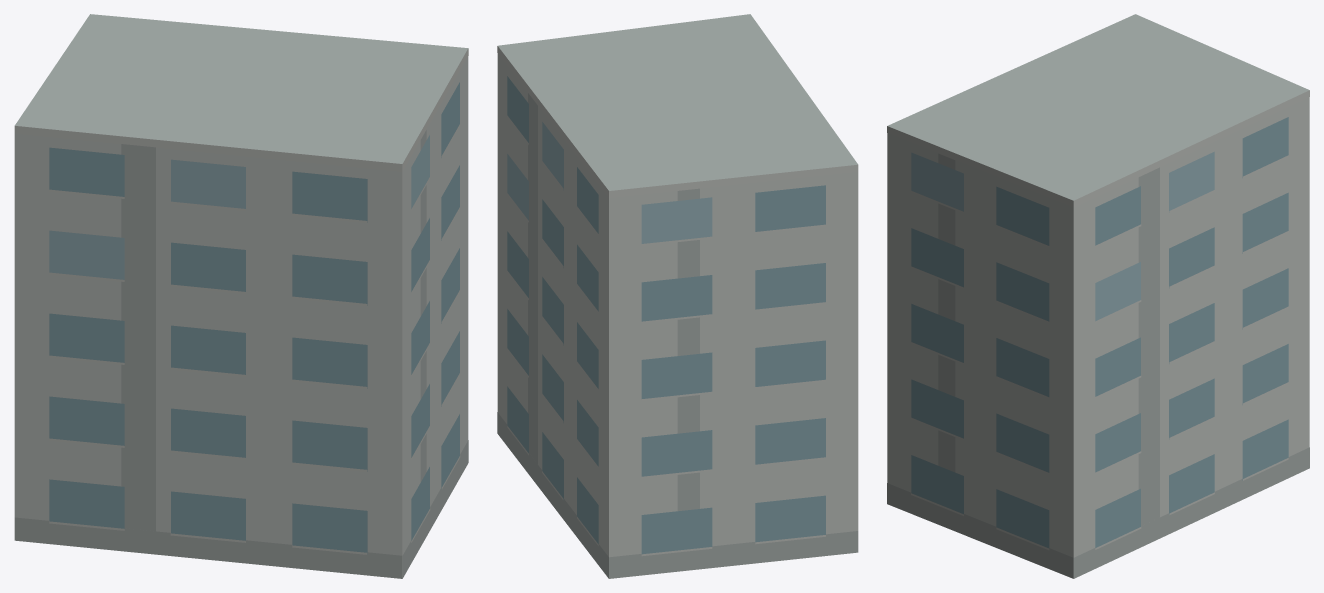
File: survey-upis-32890843.glb
3 views of the same model, side by side, from view 1: azimuth 30°, elevation 25°; view 2: azimuth 150°, elevation 25°; view 3: azimuth 270°, elevation 25° (orthographic). The views are drawn at different scales.
Parts seen in each view (by area): view 1: survey-upis-32890843.tmp; view 2: survey-upis-32890843.tmp; view 3: survey-upis-32890843.tmp.
Part boxes in pixels (<box>): survey-upis-32890843.tmp: <box>14,14,468,578</box>; survey-upis-32890843.tmp: <box>497,14,858,578</box>; survey-upis-32890843.tmp: <box>887,14,1309,578</box>.
Bounding box in the file's own units: 13.99 × 13.2 × 13.38.
